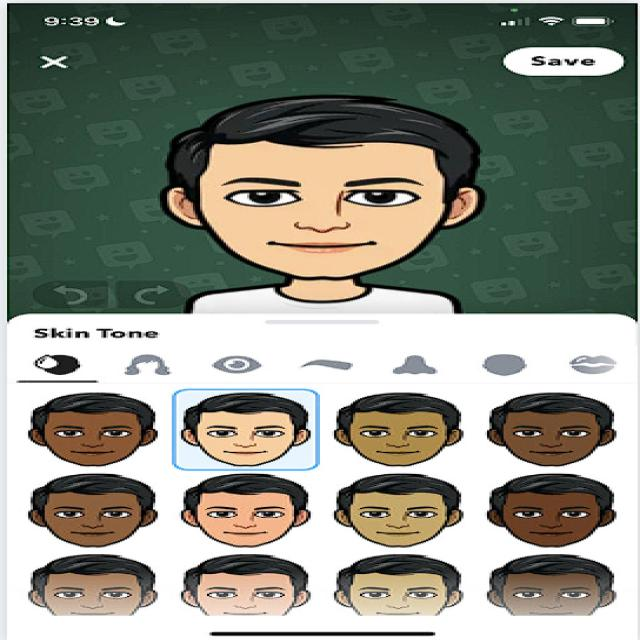button: (488, 43, 632, 80)
column: (162, 377, 332, 619), (15, 378, 178, 620), (477, 377, 640, 614), (330, 380, 482, 617)
icon button: (18, 43, 99, 75)
row: (3, 377, 640, 471), (9, 469, 635, 549), (1, 547, 640, 615)
view: (130, 93, 520, 310), (165, 388, 320, 473), (330, 387, 473, 471), (333, 474, 480, 552), (174, 473, 320, 549), (21, 388, 148, 470)
